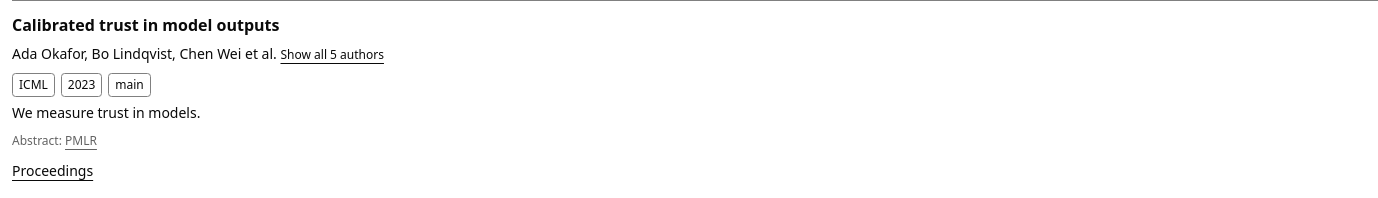
Scenario: authors (ui-design-system §Result item, RH-13) › shows the first three and et al., and the full list behind a button that says how many
Check: the text "Ada Okafor, Bo Lindqvist, Chen Wei et al." is shown, box left=12, top=44, right=277, bottom=63
Check: the text "Dana Haddad" is not shown
Click the button "Show all 5 authors".
click(332, 55)  # box left=280, top=43, right=384, bottom=67
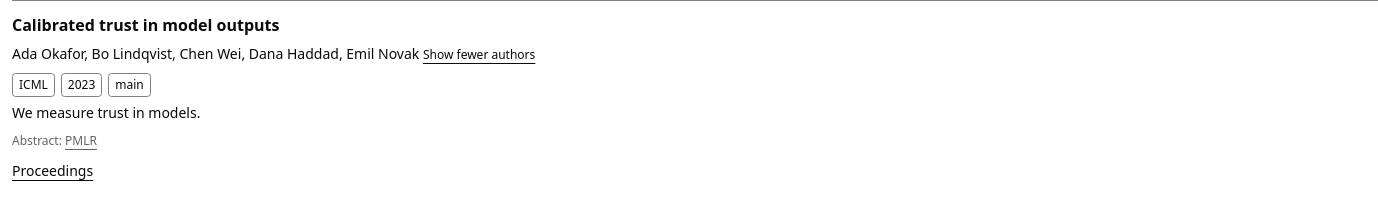
Check: the button named "Show all 5 authors" is expanded, box left=423, top=43, right=535, bottom=67
Check: the button named "Show all 5 authors" reads "Show fewer authors", box left=423, top=43, right=535, bottom=67
